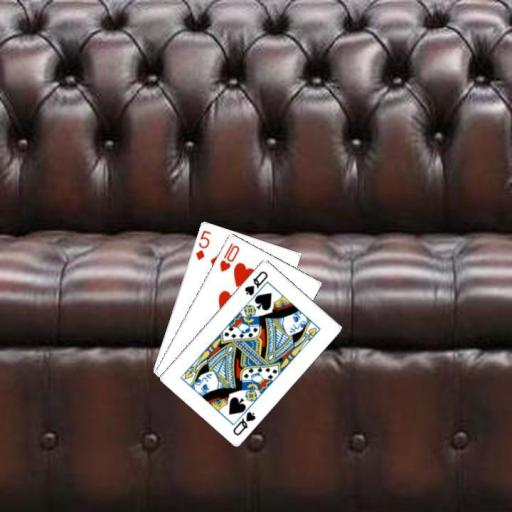10H: (216, 240, 241, 273)
5D: (192, 227, 212, 261)
QS: (241, 268, 270, 297), (230, 408, 257, 437)
